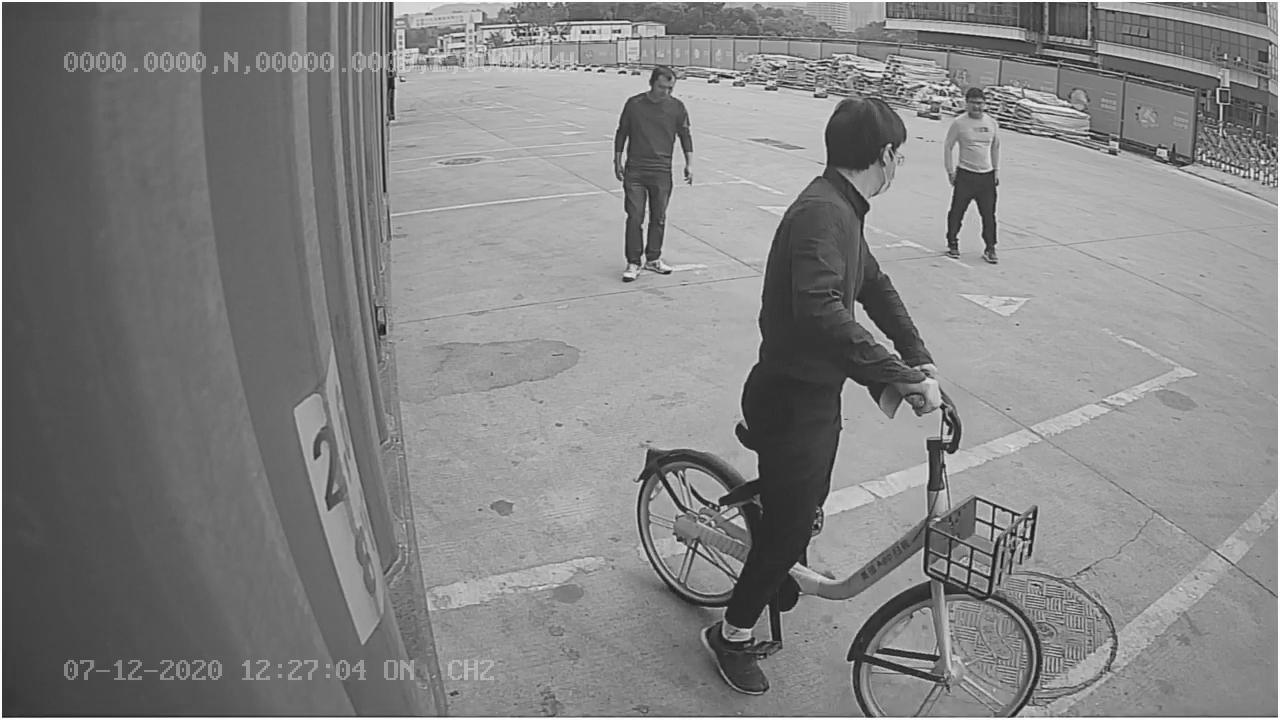person: (605, 58, 699, 280)
